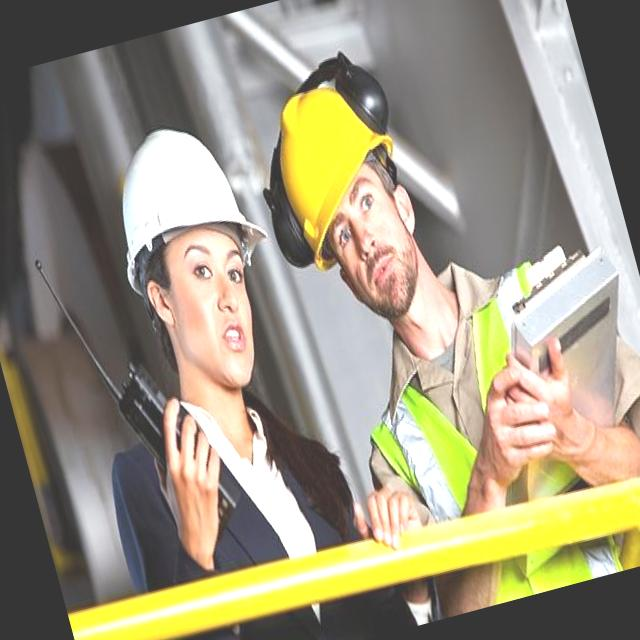helmet: (254, 71, 407, 250), (93, 114, 268, 259)
no-goggles: (143, 228, 257, 314), (314, 177, 400, 263)
no-vest: (122, 343, 365, 640)
vest: (340, 278, 614, 624)
